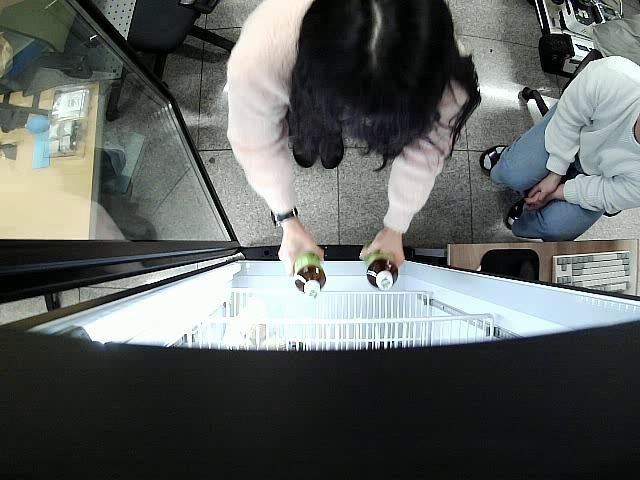19_17cha: (292, 250, 326, 300), (365, 250, 401, 290)
